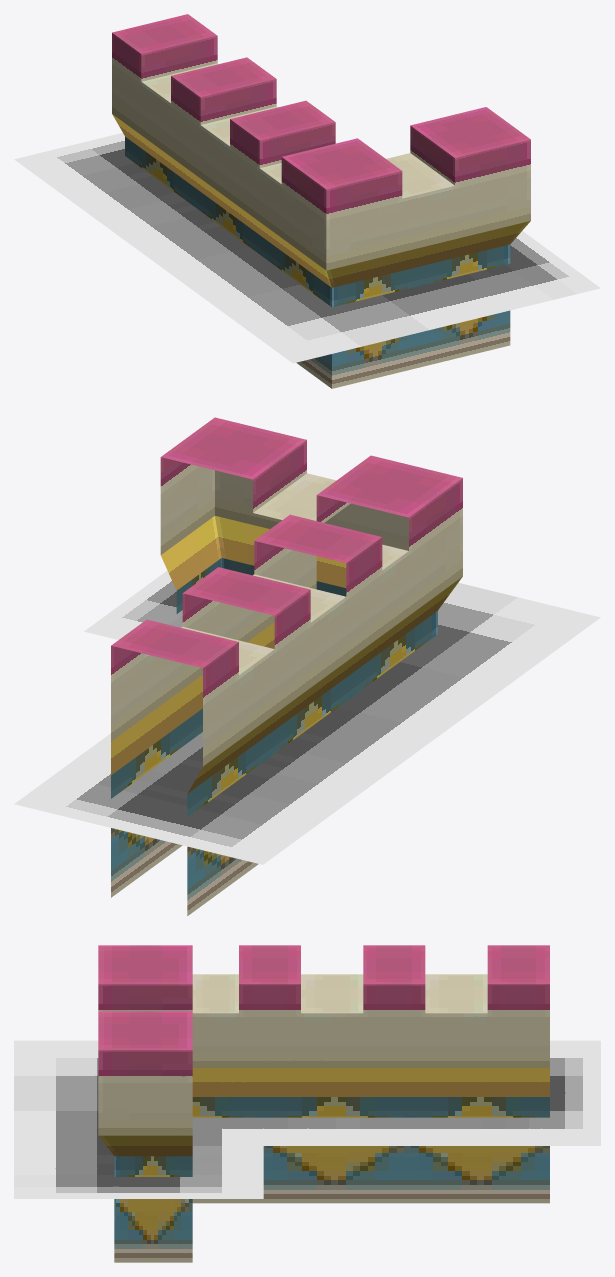
Rendered from int_fence_09.dae.
3 views of the same model, one above another, from view 1: azimuth 30°, elevation 25°; view 2: azimuth 150°, elevation 25°; view 3: azimuth 270°, elevation 25° (orthographic). The views are drawn at different scales.
Parts seen in each view (by area): view 1: int_fence_09; view 2: int_fence_09; view 3: int_fence_09.
Boxes of the visible parts, box(x1,y1,x2,y2) form: int_fence_09: box(14, 14, 600, 388); int_fence_09: box(14, 417, 600, 915); int_fence_09: box(14, 945, 600, 1262).
Size of the model in its own units: 42.09 by 27.17 by 66.
Materials: 2 (2 with a texture image).
